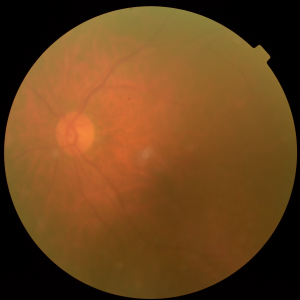cataract: (31, 84, 226, 201)
